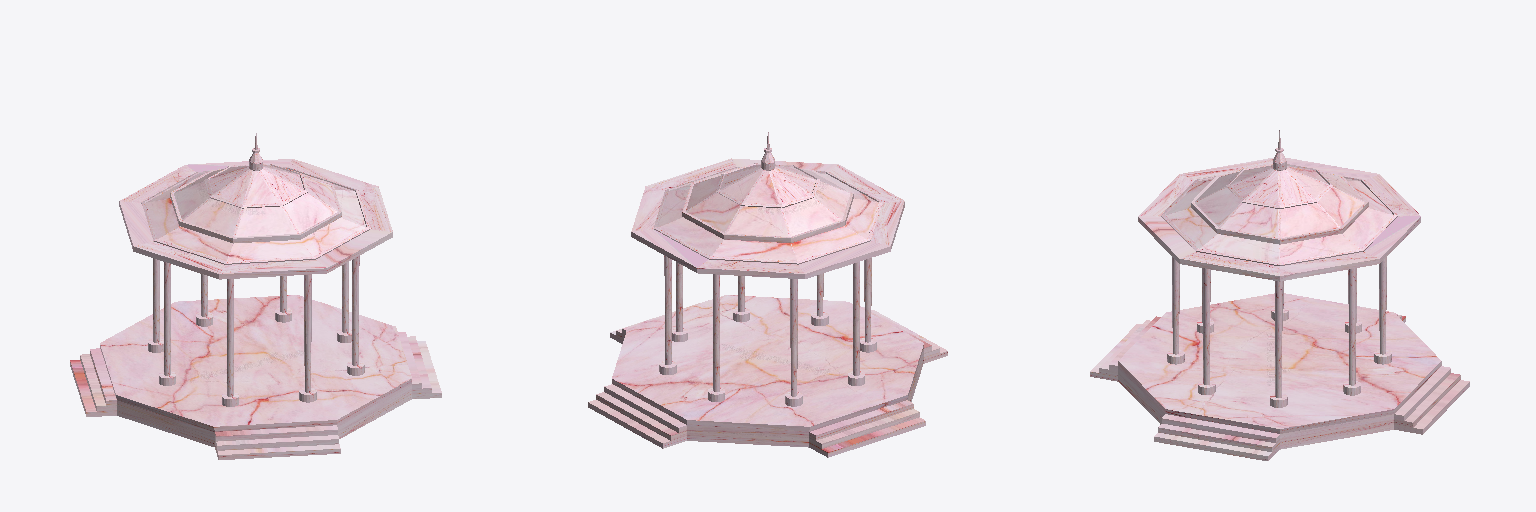
The picture shows the model from 3 angles: view 1: azimuth 30°, elevation 25°; view 2: azimuth 150°, elevation 25°; view 3: azimuth 270°, elevation 25°; orthographic projection.
Parts seen in each view (by area): view 1: gazebo_base, gazebo_Cilindro3, gazebo_colonne_Cilindro4, gazebo_colonne_Cilindro8, gazebo_colonne_Cilindro1, gazebo_colonne_Cilindro5, gazebo_colonne_Cilindro7, gazebo_colonne_Cilindro6; view 2: gazebo_base, gazebo_Cilindro3, gazebo_colonne_Cilindro7, gazebo_colonne_Cilindro2, gazebo_colonne_Cilindro1, gazebo_colonne_Cilindro, gazebo_colonne_Cilindro8, gazebo_colonne_Cilindro6; view 3: gazebo_base, gazebo_Cilindro3, gazebo_colonne_Cilindro6, gazebo_colonne_Cilindro, gazebo_colonne_Cilindro5, gazebo_colonne_Cilindro4, gazebo_colonne_Cilindro2.
Part boxes in pixels (left/top/right/bottom): gazebo_base: left=70, top=295, right=441, bottom=459; gazebo_Cilindro3: left=119, top=133, right=392, bottom=279; gazebo_colonne_Cilindro4: left=299, top=275, right=316, bottom=402; gazebo_colonne_Cilindro8: left=222, top=279, right=238, bottom=406; gazebo_colonne_Cilindro1: left=159, top=262, right=175, bottom=385; gazebo_colonne_Cilindro5: left=347, top=256, right=364, bottom=375; gazebo_colonne_Cilindro7: left=148, top=258, right=163, bottom=352; gazebo_colonne_Cilindro6: left=337, top=262, right=351, bottom=342; gazebo_base: left=588, top=295, right=947, bottom=457; gazebo_Cilindro3: left=631, top=132, right=904, bottom=278; gazebo_colonne_Cilindro7: left=785, top=279, right=802, bottom=406; gazebo_colonne_Cilindro2: left=708, top=274, right=724, bottom=401; gazebo_colonne_Cilindro1: left=848, top=262, right=864, bottom=385; gazebo_colonne_Cilindro: left=659, top=255, right=676, bottom=374; gazebo_colonne_Cilindro8: left=860, top=258, right=876, bottom=352; gazebo_colonne_Cilindro6: left=672, top=262, right=687, bottom=341; gazebo_base: left=1090, top=293, right=1469, bottom=460; gazebo_Cilindro3: left=1138, top=130, right=1420, bottom=281; gazebo_colonne_Cilindro6: left=1270, top=281, right=1287, bottom=407; gazebo_colonne_Cilindro: left=1343, top=268, right=1360, bottom=395; gazebo_colonne_Cilindro5: left=1198, top=268, right=1215, bottom=394; gazebo_colonne_Cilindro4: left=1167, top=257, right=1184, bottom=364; gazebo_colonne_Cilindro2: left=1374, top=257, right=1391, bottom=364.
Size of the model in its own units: 200 by 147 by 201.
Materials: 1 (1 with a texture image).